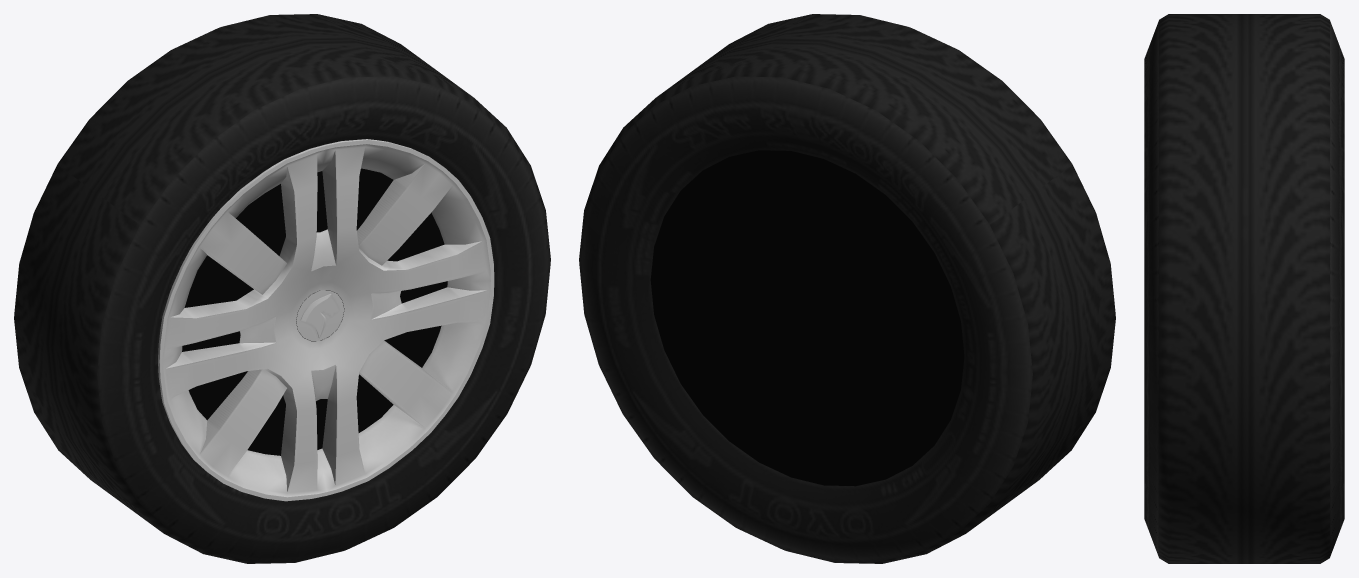
The model's file is IKCo Dena1.FBX.
3 renders of one model, left to right at view 1: azimuth 30°, elevation 25°; view 2: azimuth 150°, elevation 25°; view 3: azimuth 270°, elevation 25°, orthographic. The views are drawn at different scales.
Parts seen in each view (by area): view 1: Lastik, Rim; view 2: Lastik; view 3: Lastik.
Boxes of the visible parts, <box> form: Lastik: <box>14,14,550,563</box>; Rim: <box>158,139,494,501</box>; Lastik: <box>579,14,1115,563</box>; Lastik: <box>1144,14,1344,563</box>.
Size of the model in its own units: 61.28 by 60.94 by 22.26.
Materials: 2 (2 with a texture image).
